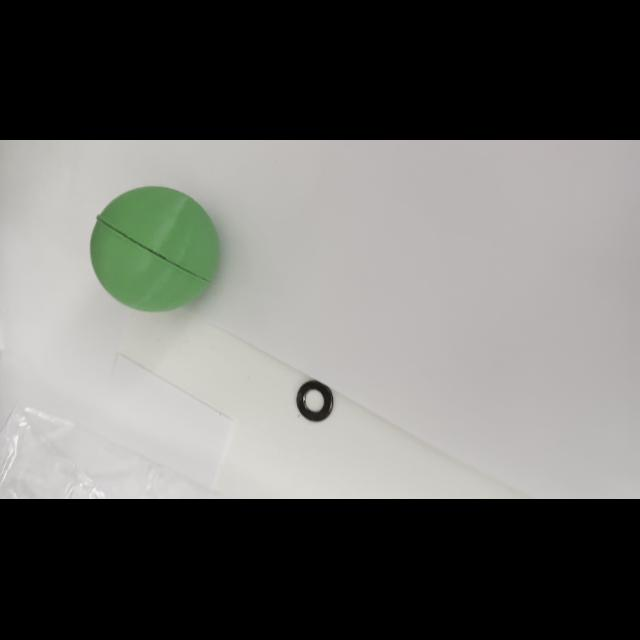objects: (86, 180, 222, 316)
